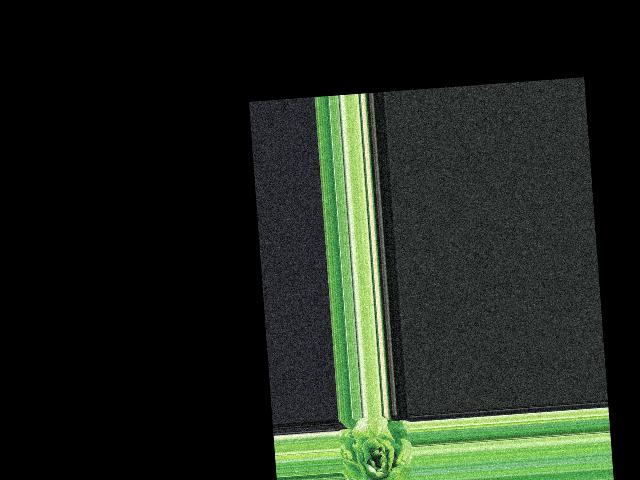lettuce: (337, 418, 413, 480)
